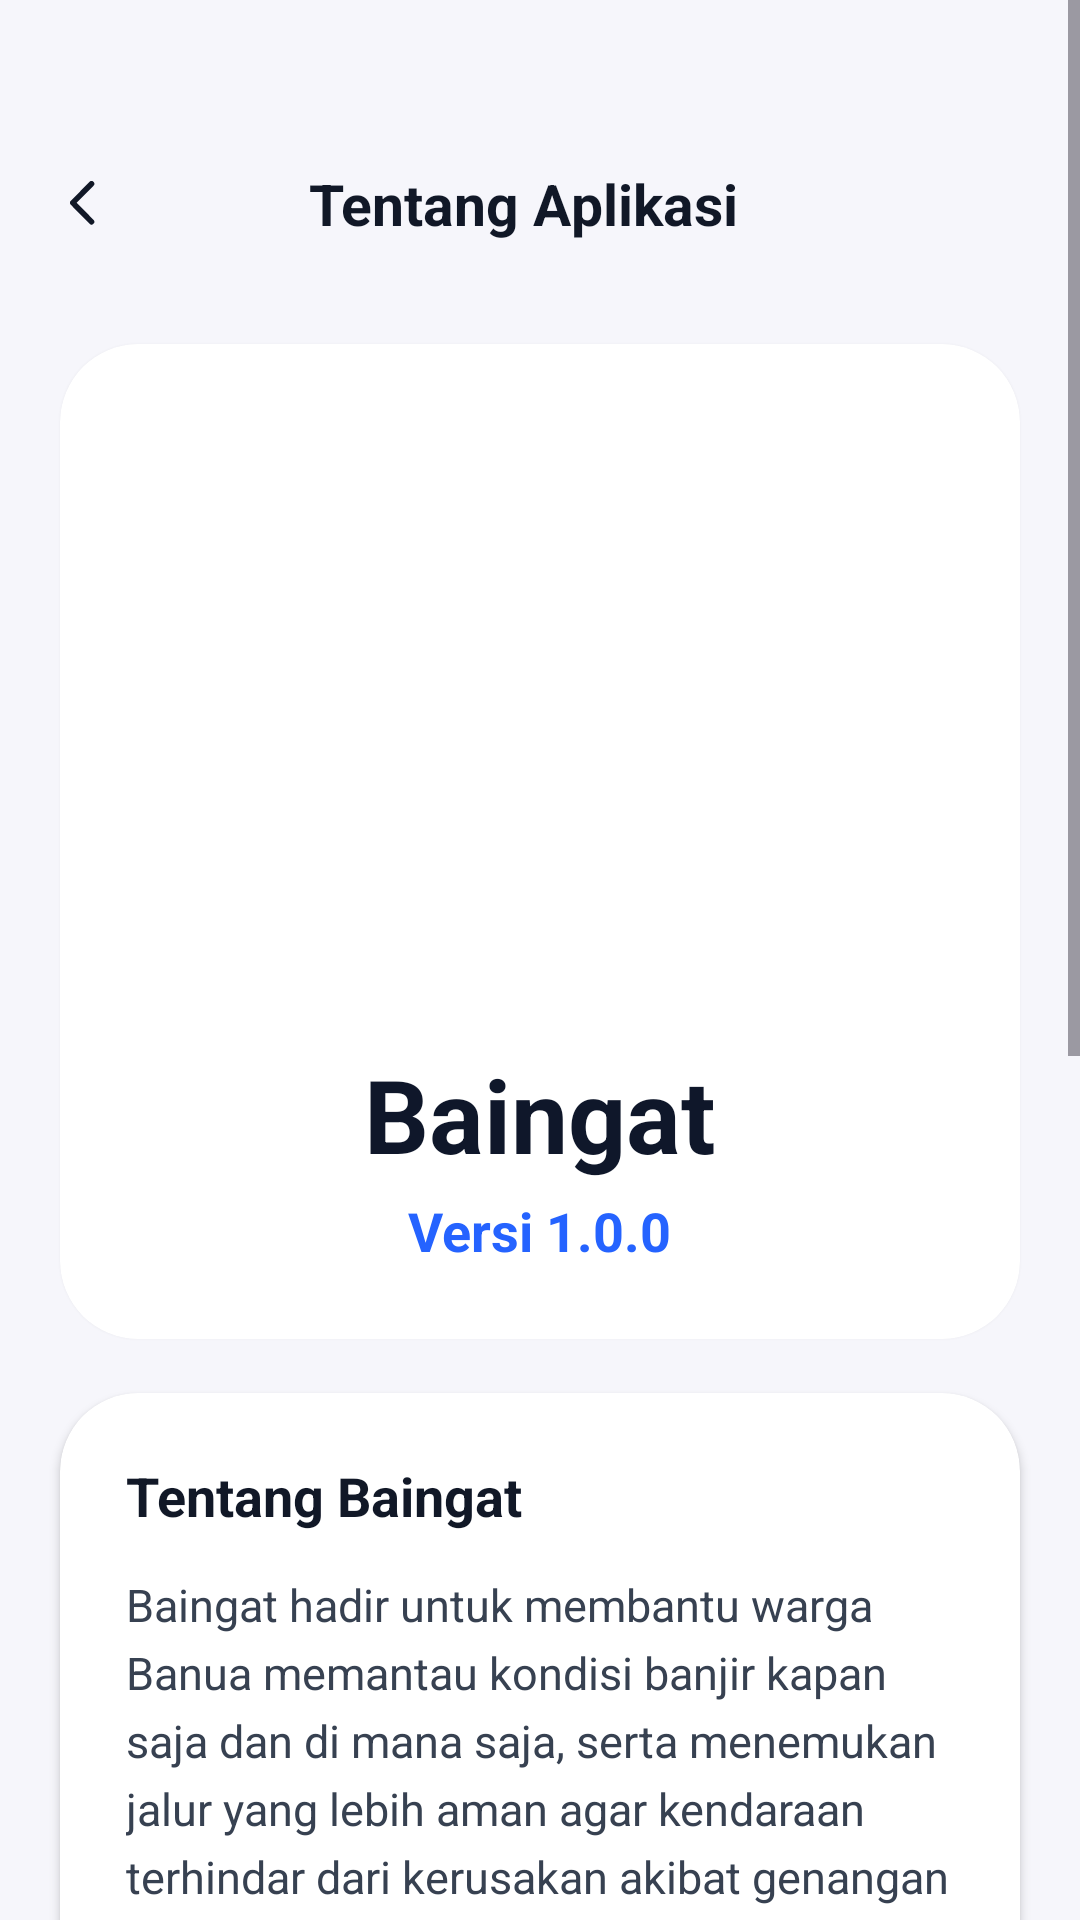

Icon click points for this 1080px x 1920px phone screenshot, format [x,y]:
kembaliicon: [82,203]
